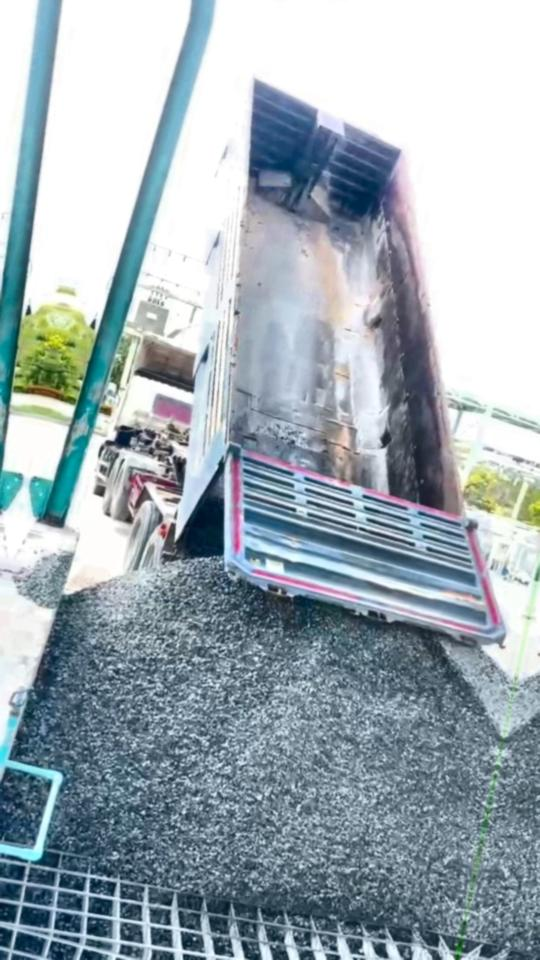gravel: (13, 558, 499, 932), (440, 639, 512, 733), (11, 551, 72, 609), (0, 775, 42, 843)
